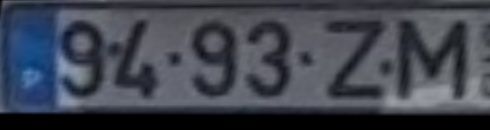3: (242, 17, 296, 102)
4: (111, 18, 164, 104)
9: (188, 18, 242, 102), (57, 19, 108, 102)
M: (392, 17, 474, 105)
Z: (319, 18, 390, 103)
